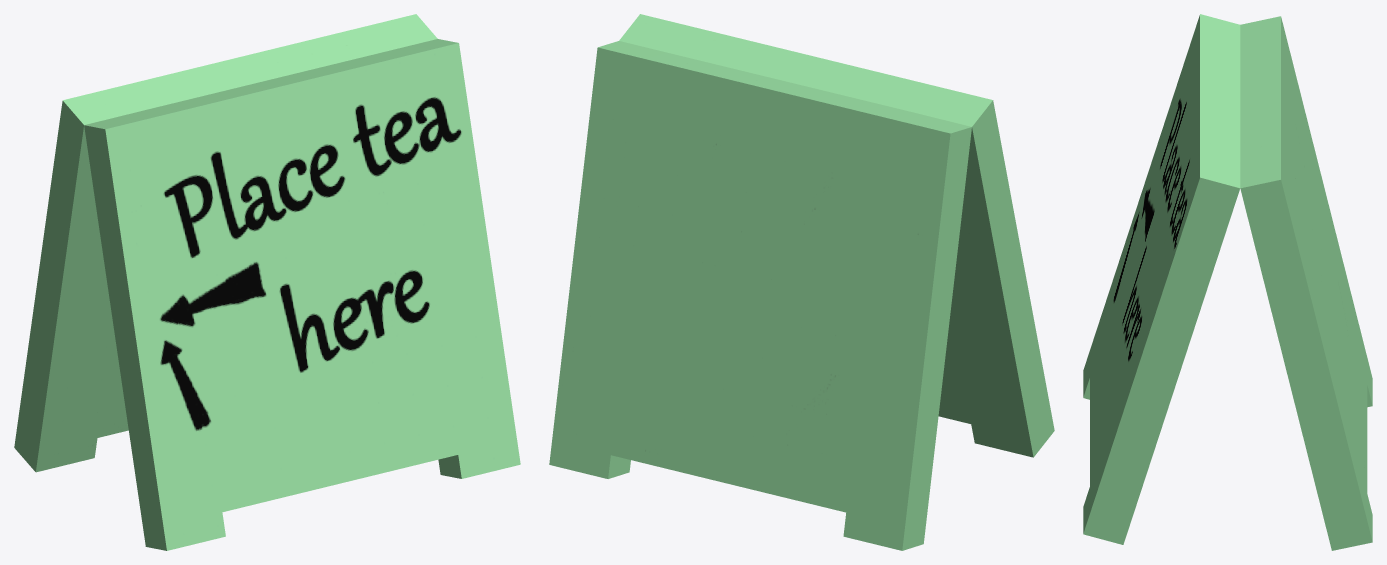
Rendered from ENV_sign_Place_tea.fbx.
3 renders of one model, left to right at view 1: azimuth 30°, elevation 25°; view 2: azimuth 150°, elevation 25°; view 3: azimuth 270°, elevation 25°, orthographic. The views are drawn at different scales.
Parts seen in each view (by area): view 1: pCube3; view 2: pCube3; view 3: pCube3.
Part boxes in pixels (x1,y1,x2,y2): pCube3: [14, 14, 520, 550]; pCube3: [549, 14, 1054, 550]; pCube3: [1083, 14, 1372, 550].
Size of the model in its own units: 0.8939 by 0.9516 by 0.6686.
Materials: 1 (1 with a texture image).
